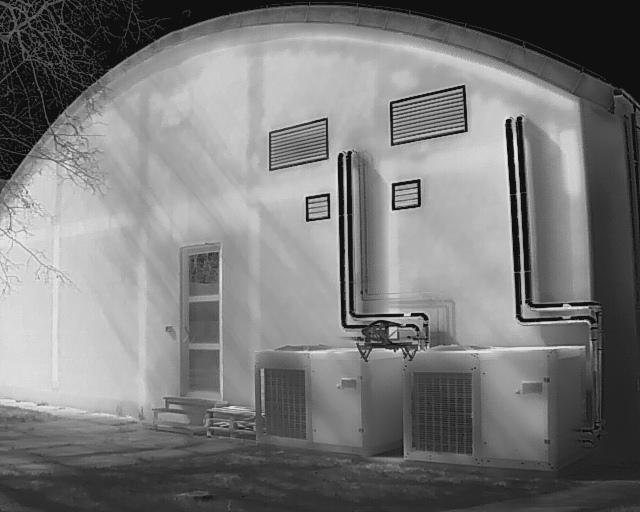drone: (332, 302, 438, 373)
